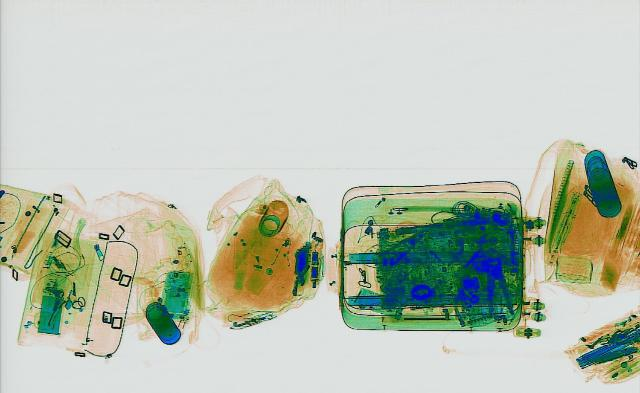Pliers: (480, 257, 516, 318)
